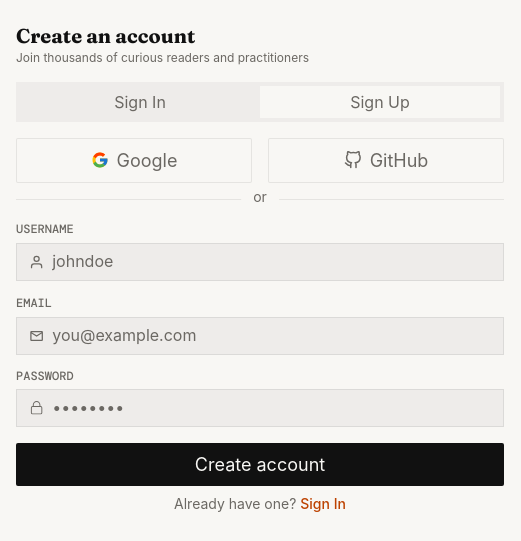
Test: RegisterForm component › Form Validation › should display validation error when password is shorter than 8 characters
This screenshot has width=521, height=541.
Type "validUser" into the field labelled "USERNAME" at (272, 262), box top-left (52, 252), bottom-right (491, 272)
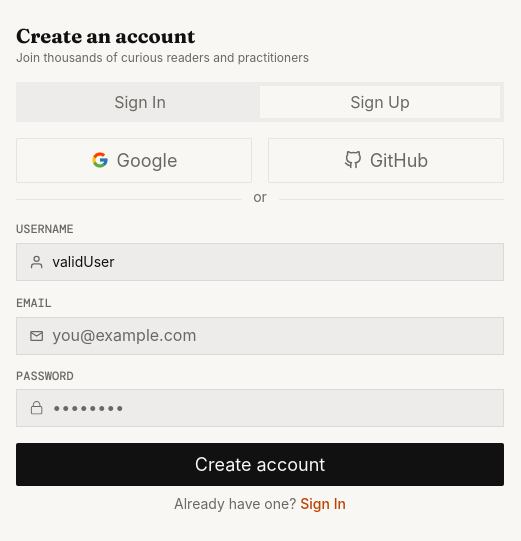
Type "valid@example.com" into the field labelled "EMAIL" at (272, 336), box top-left (52, 326), bottom-right (491, 346)
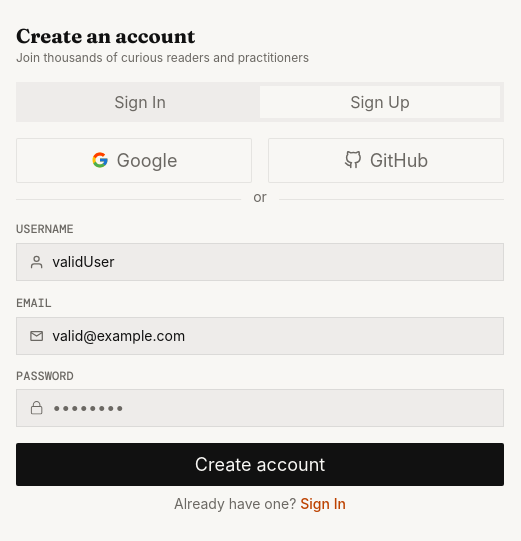
Type "1234567" into the password field labelled "PASSWORD" at (272, 408), box top-left (52, 398), bottom-right (491, 418)
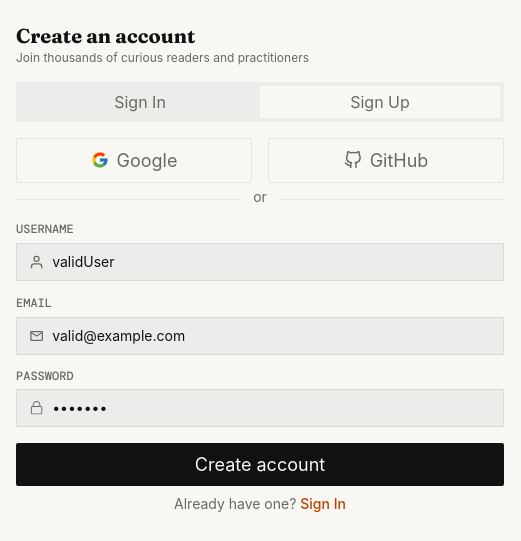
Click the button "Create account" at (260, 465), box top-left (16, 443), bottom-right (504, 486)
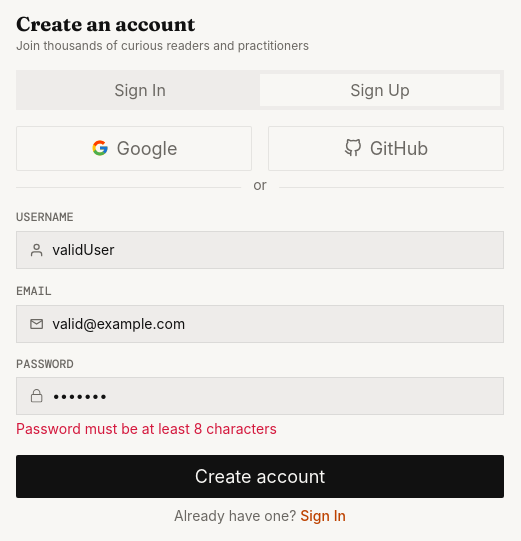
Expected: the text "Password must be at least 8 characters" is shown, top-left (16, 420), bottom-right (277, 437)
